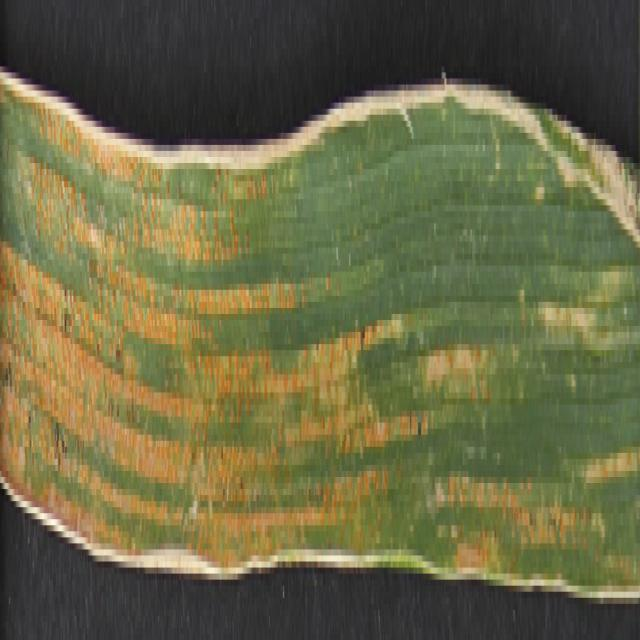leaf rust: (1, 78, 637, 580)
